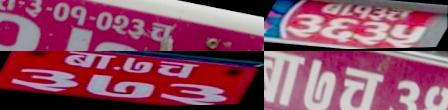0: (0, 4, 46, 51), (50, 1, 72, 26), (93, 12, 114, 36)
1: (66, 5, 90, 31), (349, 4, 374, 19)
2: (110, 16, 132, 41)
3: (155, 79, 235, 107), (8, 65, 80, 94), (379, 74, 426, 110), (348, 20, 395, 48), (281, 12, 328, 39), (127, 19, 148, 45), (21, 0, 44, 21), (367, 6, 391, 21)
4: (412, 81, 448, 110)
5: (381, 23, 428, 49)
6: (315, 17, 364, 42)
7: (297, 53, 343, 110), (56, 22, 145, 51), (80, 72, 162, 102), (119, 56, 158, 75)
ba: (264, 51, 309, 110), (59, 51, 116, 71), (318, 1, 352, 16)
cha: (330, 62, 386, 110), (152, 60, 202, 82), (146, 21, 178, 50), (380, 7, 412, 24)
